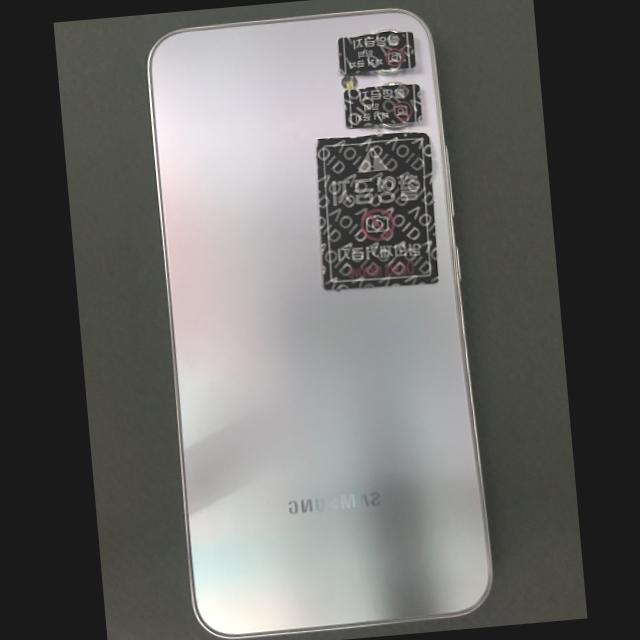lens: (381, 122, 408, 128), (374, 29, 398, 35)
phone: (148, 10, 490, 637)
sticker: (316, 133, 436, 290), (343, 85, 420, 129), (338, 32, 414, 74)
